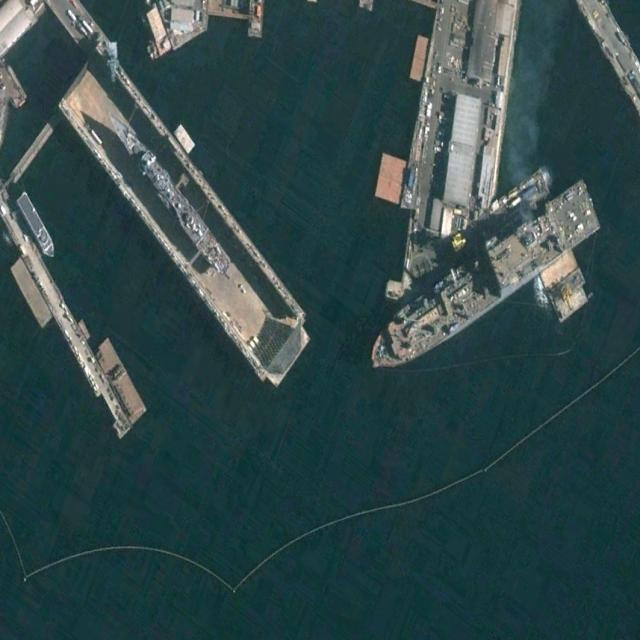Commander: (359, 172, 603, 388)
Frigate: (102, 102, 234, 281)
